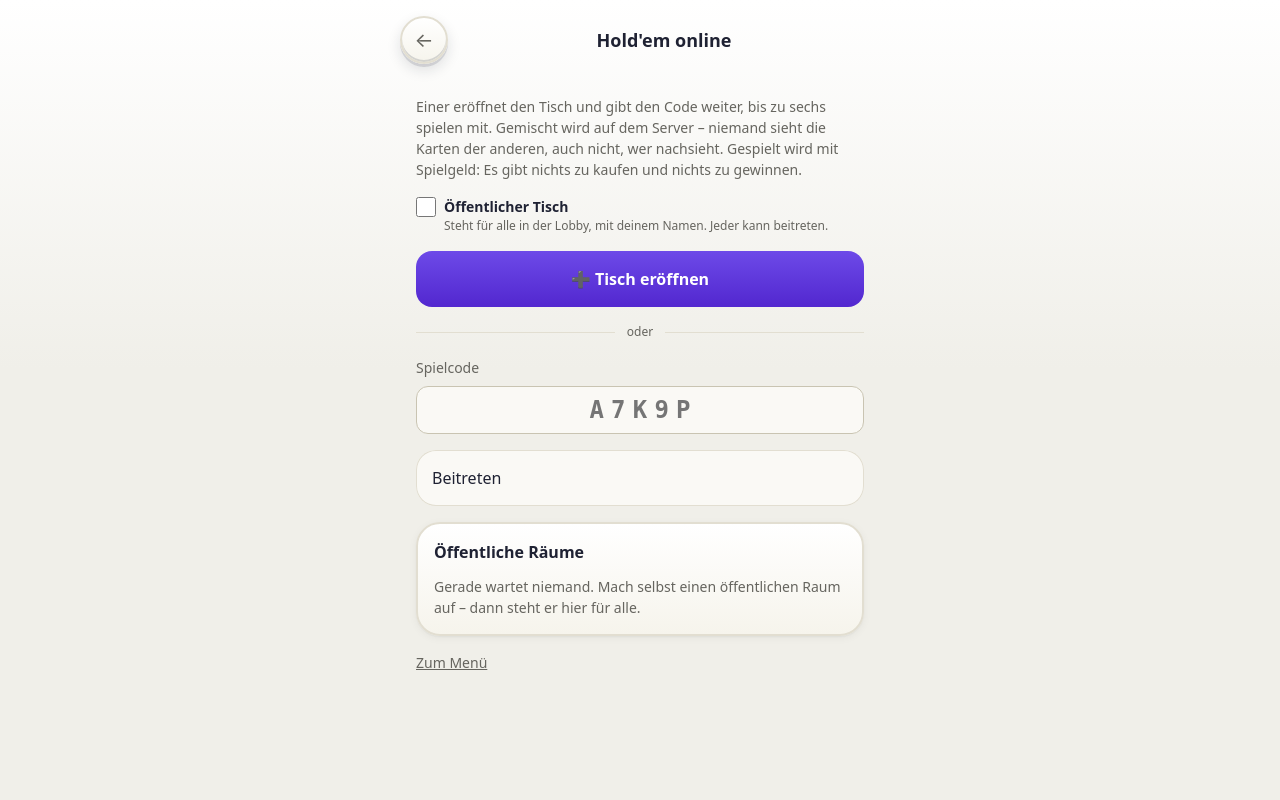
Test: Texas Hold’em online › kommt damit zurecht, dass fremde Karten als null ankommen
The width and height of the screenshot is (1280, 800).
Click the button "➕ Tisch eröffnen": (640, 279) [416,251,864,307]
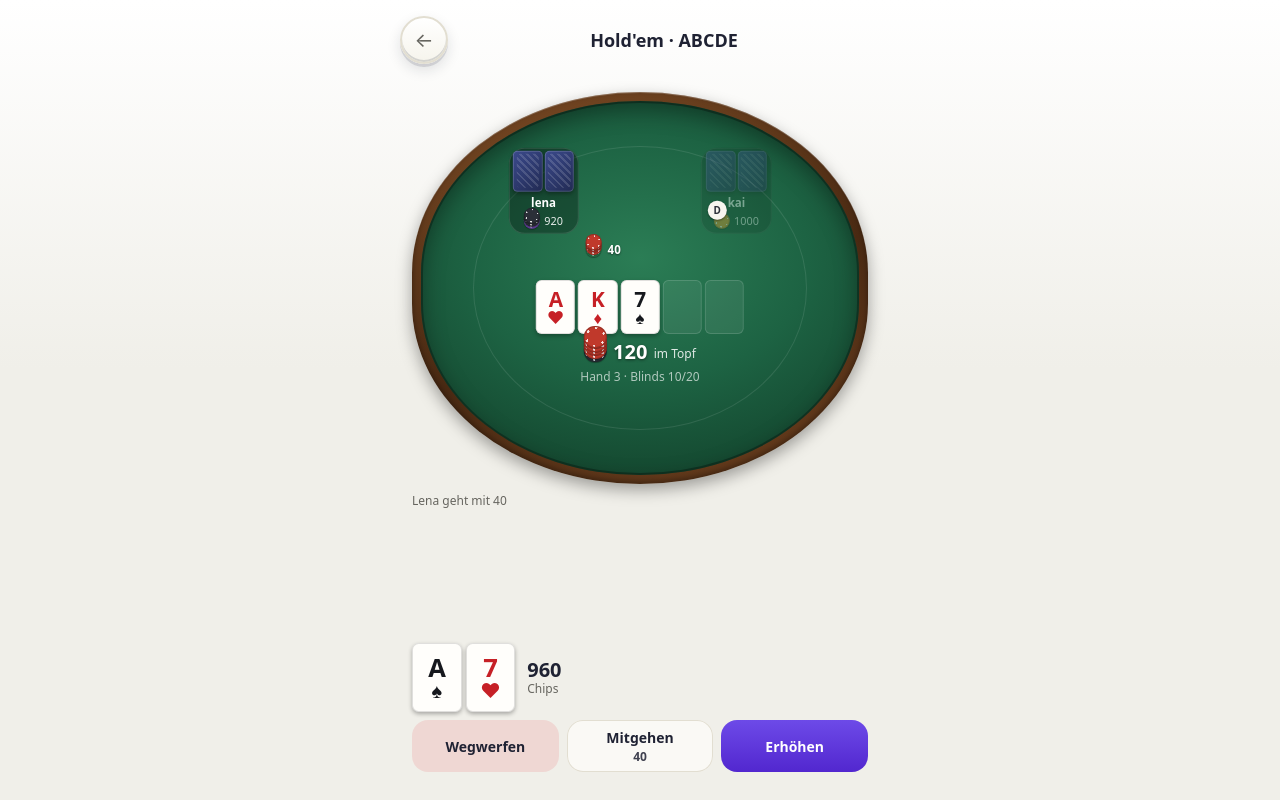
Now the element named "Tischmitte" is shown, box [536,280,744,385]
Now the element named "Deine Karten" shows "A", box [428,650,445,685]
Now the element named "Deine Karten" shows "7", box [483,650,497,685]
